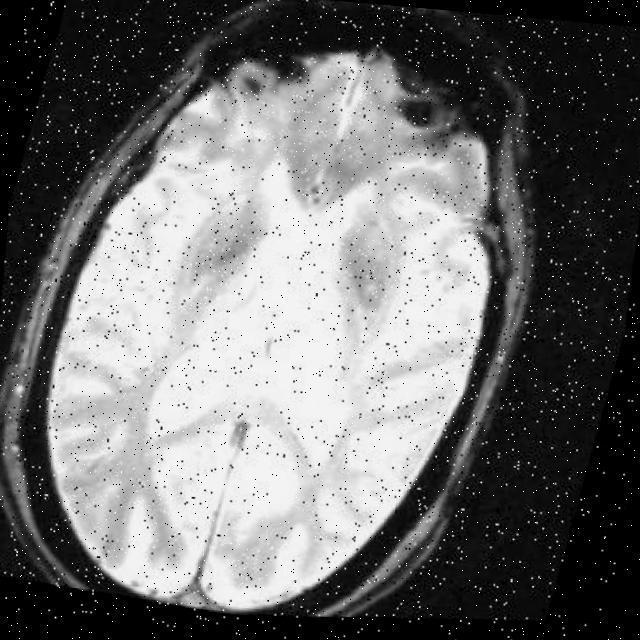MCI: (26, 364, 172, 526), (383, 236, 494, 376)
